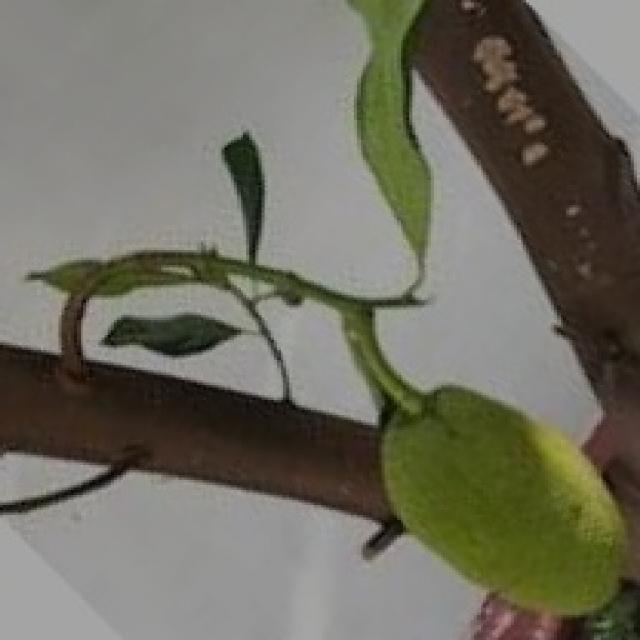Fruit: (351, 368, 640, 638)
